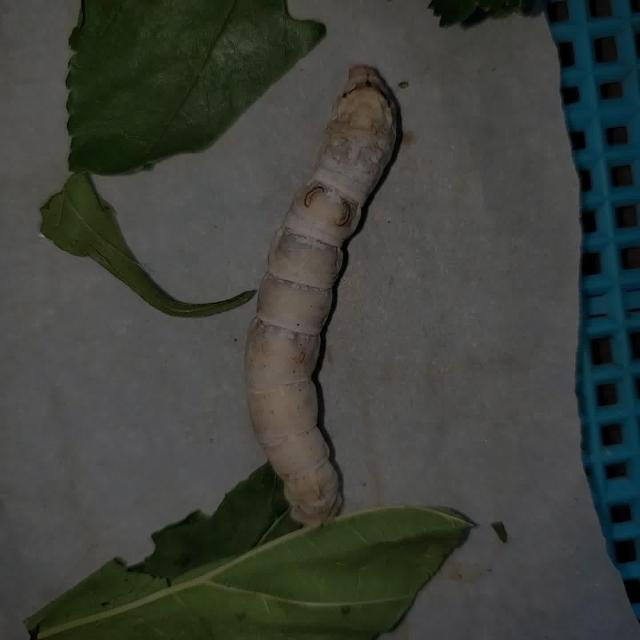Grasserie: (240, 40, 409, 533)
